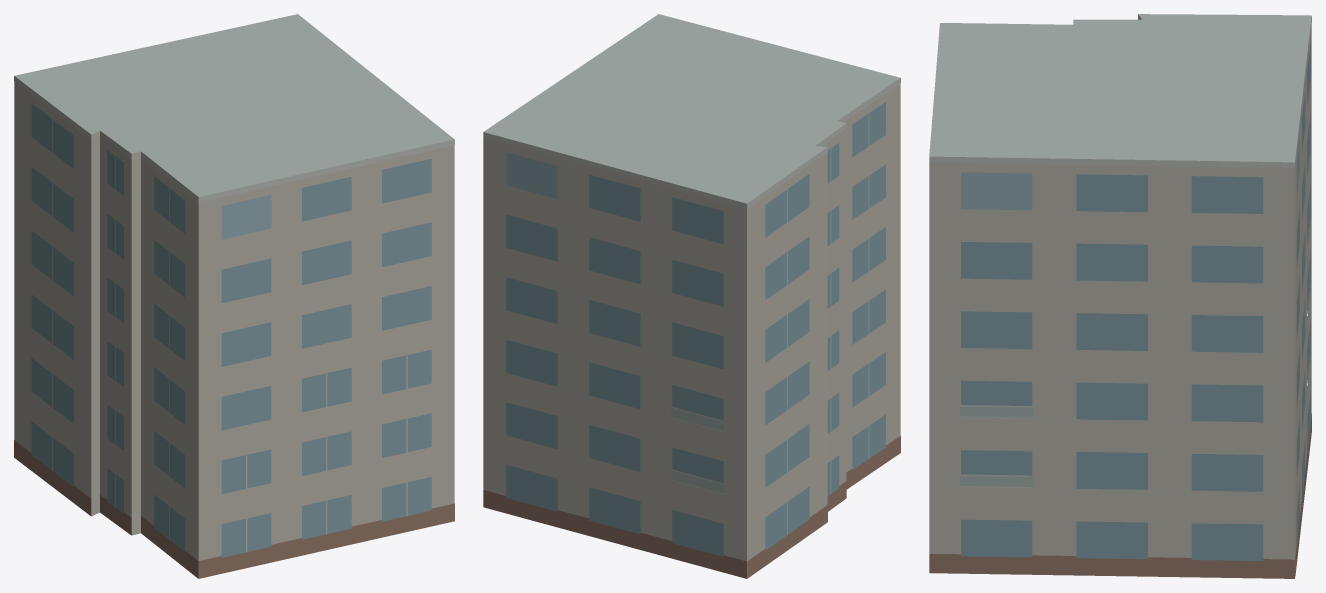
Rendered from survey-upis-32521755.glb.
3 renders of one model, left to right at view 1: azimuth 30°, elevation 25°; view 2: azimuth 150°, elevation 25°; view 3: azimuth 270°, elevation 25°, orthographic. The views are drawn at different scales.
Visible parts, largest first — view 1: survey-upis-32521755.tmp; view 2: survey-upis-32521755.tmp; view 3: survey-upis-32521755.tmp.
Boxes of the visible parts, box(x1,y1,x2,y2) form: survey-upis-32521755.tmp: box(14, 14, 454, 578); survey-upis-32521755.tmp: box(483, 14, 900, 578); survey-upis-32521755.tmp: box(929, 14, 1311, 578).
Size of the model in its own units: 12.69 by 16.6 by 13.83.
